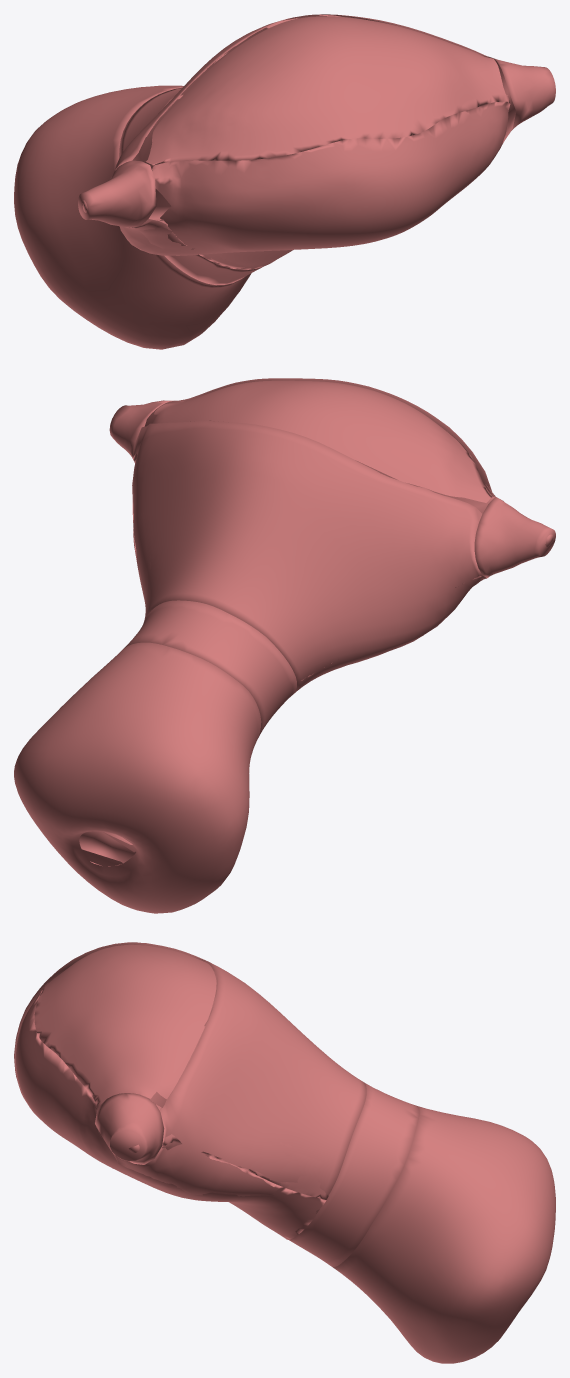
File: vh_f_uterus-80.glb
The picture shows the model from 3 angles, top to bottom: view 1: azimuth 30°, elevation 25°; view 2: azimuth 150°, elevation 25°; view 3: azimuth 270°, elevation 25°; orthographic projection. The views are drawn at different scales.
Visible parts, largest first — view 1: VH_F_anterior_wall_of_uterus, VH_F_posterior_wall_of_uterus, VH_F_cervix, VH_F_cornua, VH_F_lower_uterine_segment, VH_F_body_of_uterus, VH_F_fundus_of_uterus; view 2: VH_F_body_of_uterus, VH_F_cervix, VH_F_anterior_wall_of_uterus, VH_F_lower_uterine_segment, VH_F_cornua, VH_F_fundus_of_uterus, VH_F_external_cervical_os; view 3: VH_F_cervix, VH_F_body_of_uterus, VH_F_anterior_wall_of_uterus, VH_F_posterior_wall_of_uterus, VH_F_lower_uterine_segment, VH_F_cornua, VH_F_fundus_of_uterus.
Boxes of the visible parts, left/top/right/bottom form: VH_F_anterior_wall_of_uterus: left=146, top=16, right=510, bottom=165; VH_F_posterior_wall_of_uterus: left=140, top=101, right=510, bottom=269; VH_F_cervix: left=14, top=85, right=251, bottom=349; VH_F_cornua: left=78, top=58, right=555, bottom=227; VH_F_lower_uterine_segment: left=119, top=87, right=262, bottom=285; VH_F_body_of_uterus: left=114, top=14, right=511, bottom=268; VH_F_fundus_of_uterus: left=132, top=14, right=516, bottom=245; VH_F_body_of_uterus: left=132, top=421, right=486, bottom=694; VH_F_cervix: left=14, top=642, right=261, bottom=913; VH_F_anterior_wall_of_uterus: left=132, top=380, right=491, bottom=680; VH_F_lower_uterine_segment: left=123, top=600, right=296, bottom=737; VH_F_cornua: left=109, top=400, right=555, bottom=578; VH_F_fundus_of_uterus: left=144, top=378, right=495, bottom=513; VH_F_external_cervical_os: left=79, top=831, right=135, bottom=866; VH_F_cervix: left=332, top=1106, right=555, bottom=1363; VH_F_body_of_uterus: left=115, top=961, right=366, bottom=1213; VH_F_anterior_wall_of_uterus: left=34, top=944, right=328, bottom=1199; VH_F_posterior_wall_of_uterus: left=15, top=991, right=326, bottom=1239; VH_F_lower_uterine_segment: left=289, top=1083, right=419, bottom=1266; VH_F_cornua: left=95, top=942, right=164, bottom=1164; VH_F_fundus_of_uterus: left=14, top=942, right=217, bottom=1162.
Size of the model in its own units: 0.0525 by 0.047 by 0.0587.
